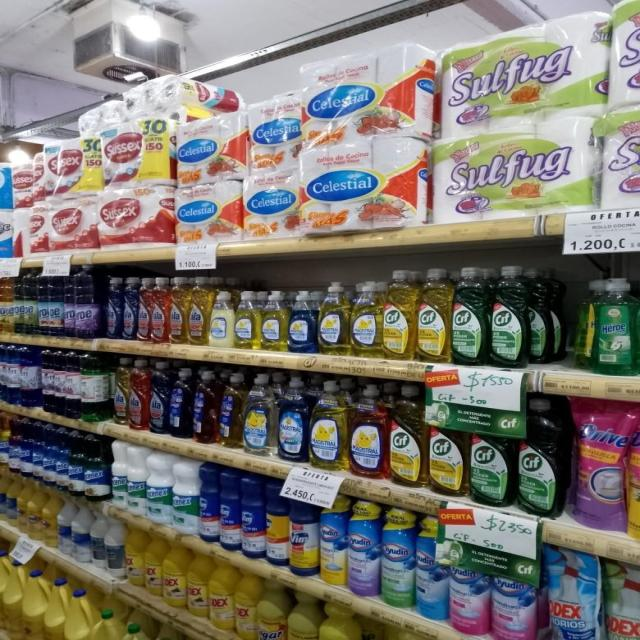ala_conc_amarillo: (189, 276, 211, 346), (170, 276, 188, 345), (112, 357, 128, 426)
ala_conc_azul: (149, 361, 169, 435), (104, 276, 122, 340), (122, 276, 138, 341)
ala_conc_rojo: (129, 359, 148, 431), (152, 276, 169, 344), (138, 276, 152, 342)
cif_conc_bot_amarilla: (389, 383, 427, 488), (429, 395, 467, 497), (418, 267, 451, 364), (383, 269, 416, 361)
cif_conc_botella_verde: (516, 397, 566, 516), (470, 398, 514, 507), (490, 265, 527, 368), (452, 265, 488, 366)
drive: (572, 397, 626, 532), (628, 400, 640, 541)
magistral_con_amarillo: (309, 379, 347, 471), (352, 280, 382, 359), (318, 281, 349, 356), (261, 289, 287, 352), (235, 289, 260, 350)
magistral_con_azul: (288, 289, 316, 354)
magistral_con_crema: (211, 289, 234, 348)
magistral_con_rojo: (349, 383, 387, 479)
zorro: (243, 374, 276, 456), (218, 372, 242, 450), (193, 370, 218, 444)
